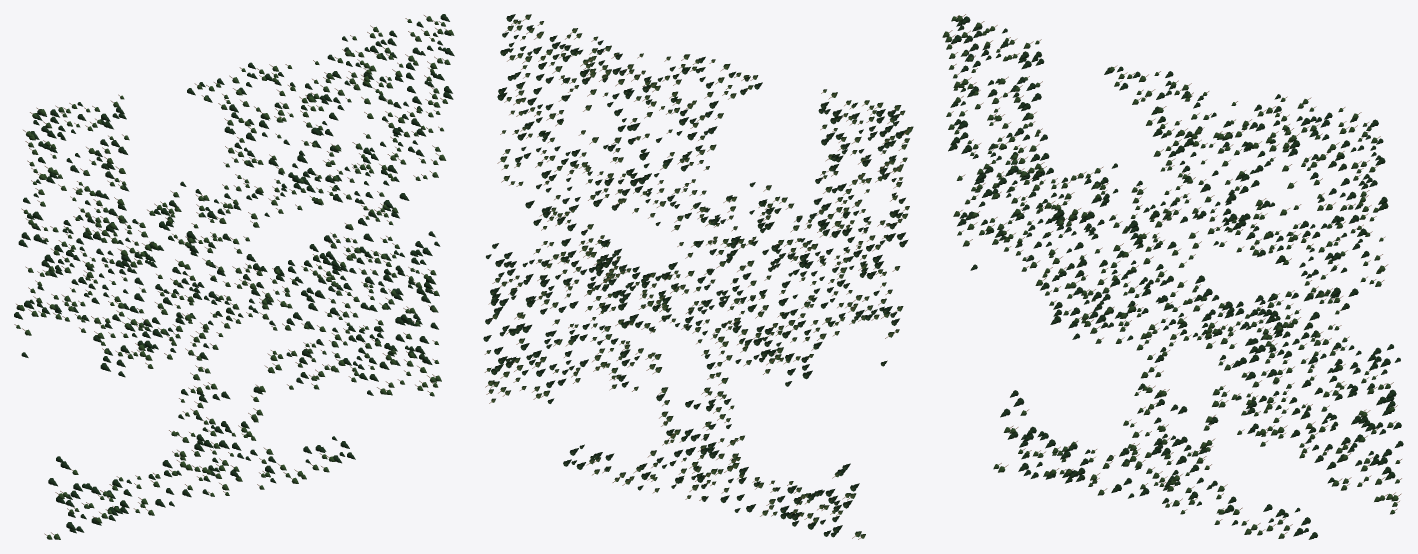
The model's file is forest_10.obj.
3 renders of one model, left to right at view 1: azimuth 30°, elevation 25°; view 2: azimuth 150°, elevation 25°; view 3: azimuth 330°, elevation 25°, orthographic. The views are drawn at different scales.
Bounding box in the file's own units: 554 × 555 × 72.22.
